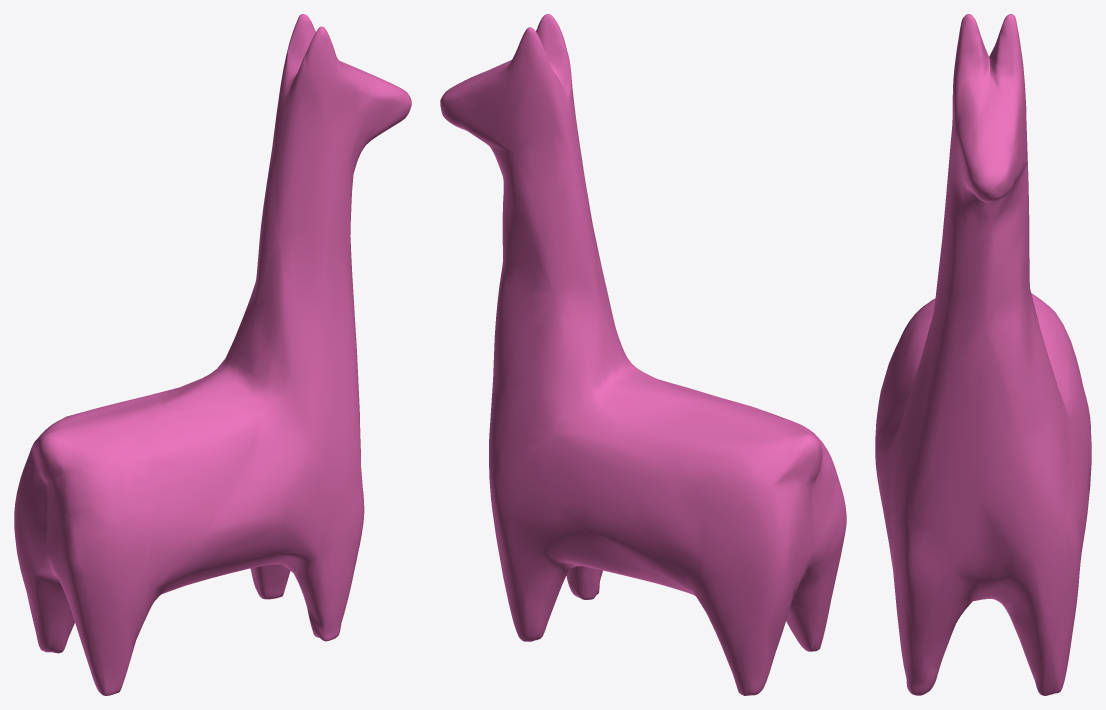
The model's file is yamaCinemaWeb.gltf.
The picture shows the model from 3 angles, left to right: view 1: azimuth 30°, elevation 25°; view 2: azimuth 150°, elevation 25°; view 3: azimuth 270°, elevation 25°; orthographic projection. The views are drawn at different scales.
Parts seen in each view (by area): view 1: Subdivision Surface; view 2: Subdivision Surface; view 3: Subdivision Surface.
Boxes of the visible parts, x1=… form: Subdivision Surface: x1=14, y1=14, x2=411, y2=695; Subdivision Surface: x1=440, y1=14, x2=846, y2=695; Subdivision Surface: x1=875, y1=14, x2=1091, y2=695.
Size of the model in its own units: 119 by 181 by 51.71.
